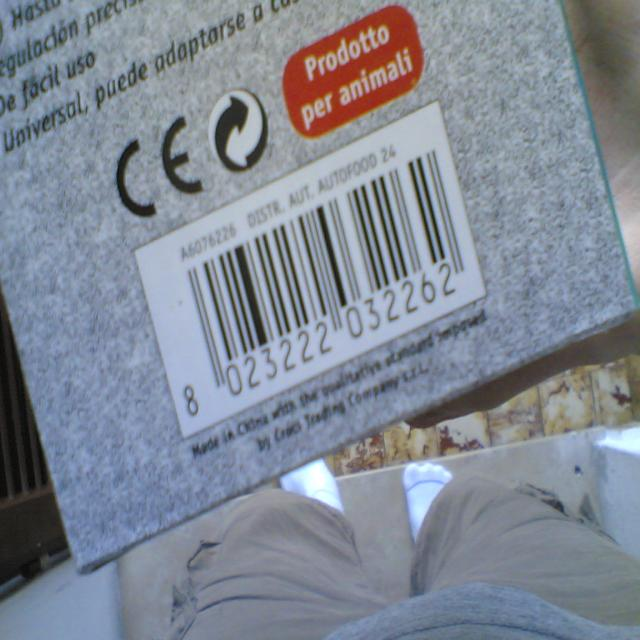barcode: (135, 102, 485, 437)
